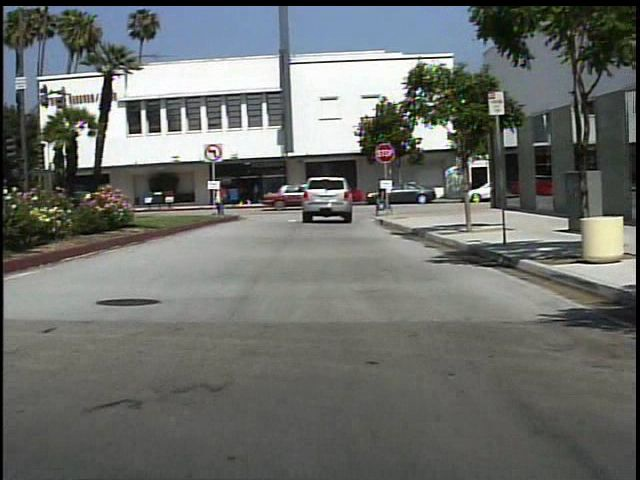person: (374, 174, 396, 218), (251, 179, 267, 206), (218, 188, 229, 218)
